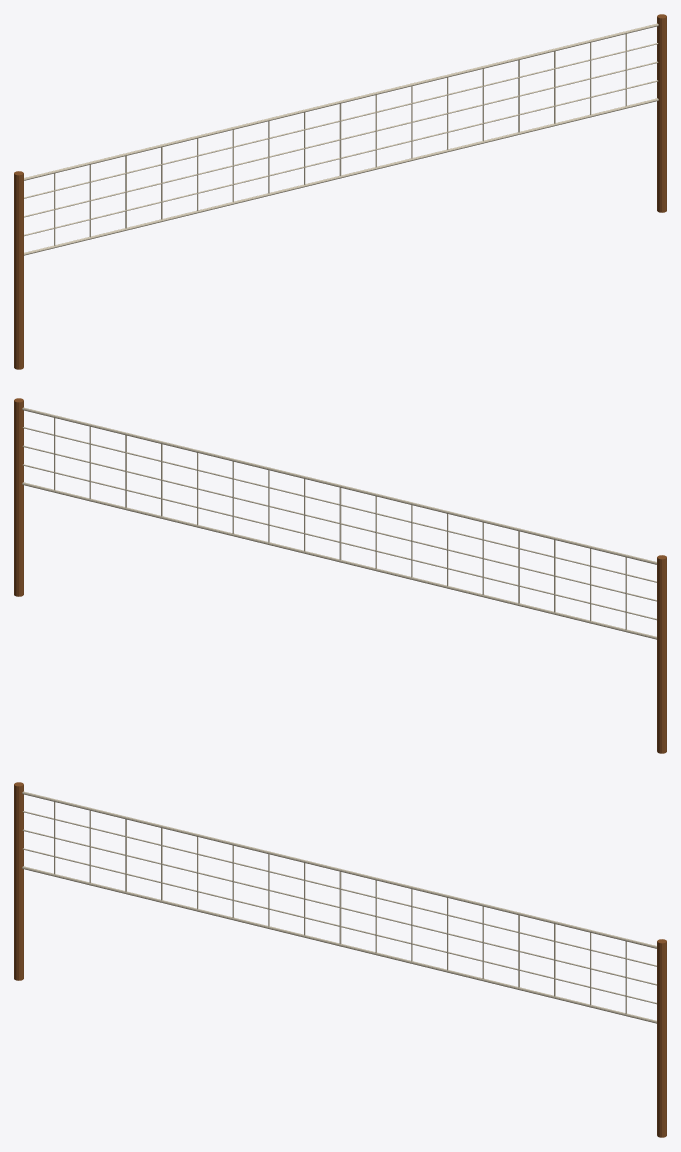
The model's file is volleyball_net.glb.
3 renders of one model, top to bottom at view 1: azimuth 30°, elevation 25°; view 2: azimuth 150°, elevation 25°; view 3: azimuth 330°, elevation 25°, orthographic.
Parts seen in each view (by area): view 1: volleyball_net_pc; view 2: volleyball_net_pc; view 3: volleyball_net_pc.
Part boxes in pixels (x1,y1,x2,y2): volleyball_net_pc: (14, 14, 666, 369); volleyball_net_pc: (14, 398, 666, 753); volleyball_net_pc: (14, 782, 666, 1137).
Size of the model in its own units: 9.12 by 2.6 by 0.12.
